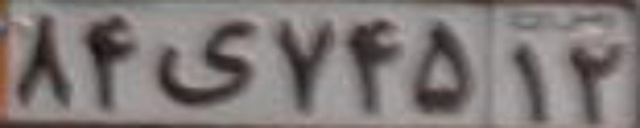1: (506, 41, 551, 120)
2: (563, 39, 626, 122)
4: (346, 18, 405, 113), (81, 14, 140, 107)
5: (412, 21, 473, 113)
7: (270, 16, 335, 111)
8: (13, 15, 75, 110)
ye: (149, 19, 260, 104)
